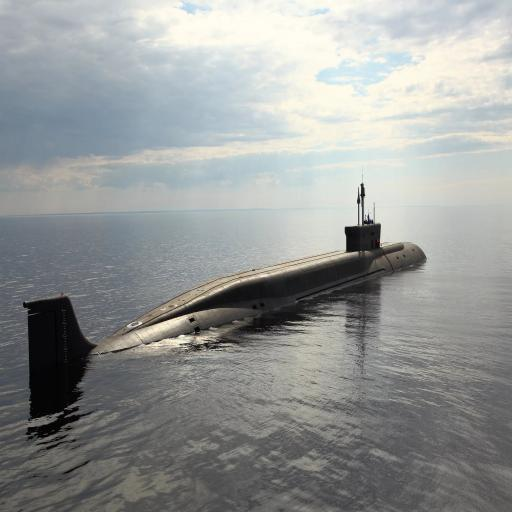submarine: (23, 178, 433, 393)
